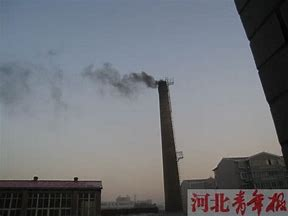smoke: (77, 63, 157, 96)
